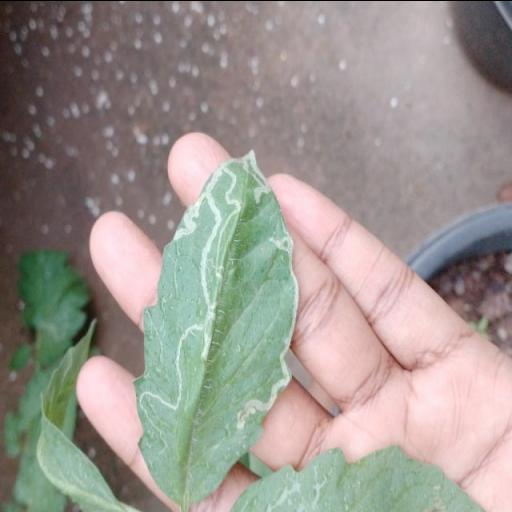Leaf Miner: (130, 144, 302, 506)
